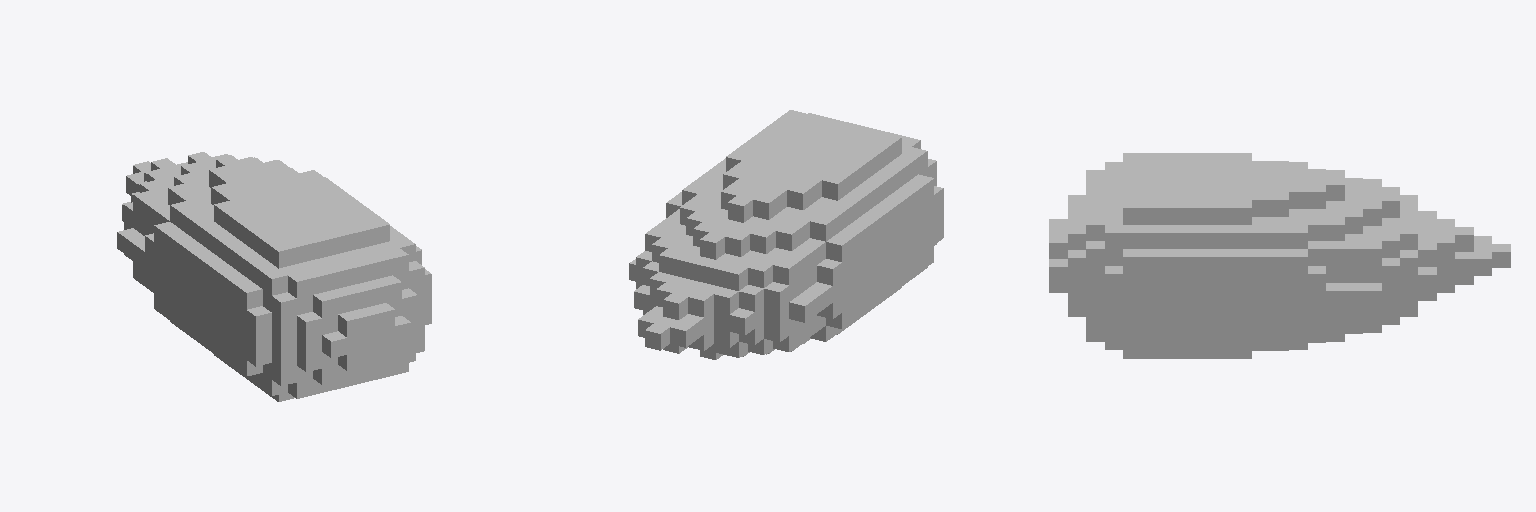
The model's file is Magic Missle.obj.
3 views of the same model, side by side, from view 1: azimuth 30°, elevation 25°; view 2: azimuth 150°, elevation 25°; view 3: azimuth 270°, elevation 25° (orthographic).
Parts seen in each view (by area): view 1: object 1; view 2: object 1; view 3: object 1.
Part boxes in pixels (left/top/right/bottom): object 1: left=117, top=152, right=431, bottom=401; object 1: left=629, top=110, right=943, bottom=359; object 1: left=1049, top=153, right=1510, bottom=358.
Bounding box in the file's own units: 1.1 × 0.9 × 2.5.